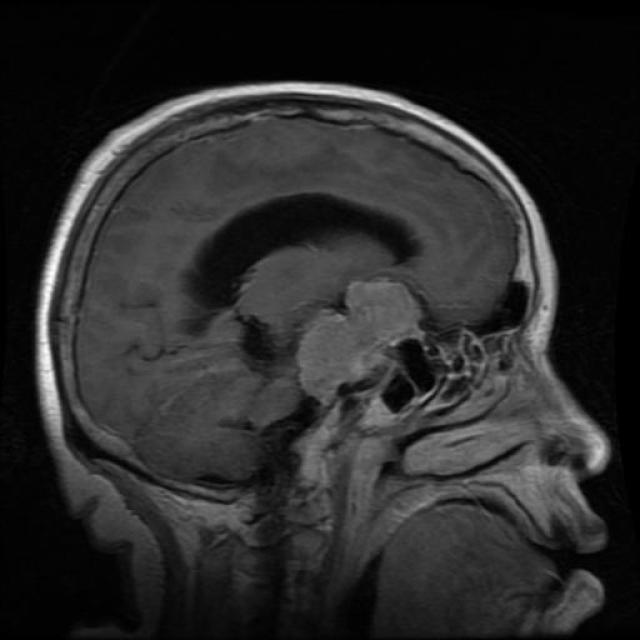meningioma: (298, 282, 424, 408)
